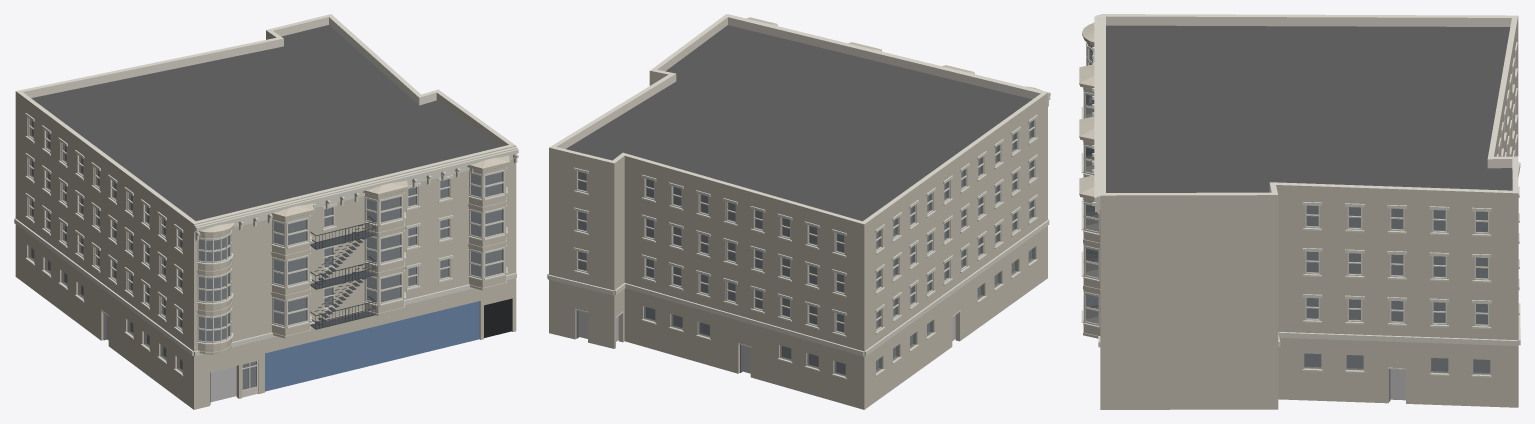
Rendered from exterior.glb.
3 renders of one model, left to right at view 1: azimuth 30°, elevation 25°; view 2: azimuth 150°, elevation 25°; view 3: azimuth 270°, elevation 25°, orthographic. The views are drawn at different scales.
Parts seen in each view (by area): view 1: shell, roof, bay-glazing-hyb, shadow-proxy, storefront, trim, bay-windows-hyb, glazing, frames, fire-escape, front-dressing-r4; view 2: shell, roof, trim, glazing, shadow-proxy, frames; view 3: shell, roof, trim, glazing, shadow-proxy, bay-windows-hyb, bay-glazing-hyb, frames.
Part boxes in pixels (box(x1,y1,x2,y2)): shell: box(15, 14, 516, 409); roof: box(31, 25, 500, 220); bay-glazing-hyb: box(197, 167, 507, 344); shadow-proxy: box(31, 121, 501, 402); storefront: box(100, 298, 511, 404); trim: box(14, 113, 518, 376); bay-windows-hyb: box(197, 155, 509, 354); glazing: box(28, 119, 448, 389); frames: box(28, 118, 450, 330); fire-escape: box(310, 216, 375, 329); front-dressing-r4: box(195, 154, 518, 241); shell: box(549, 14, 1047, 409); roof: box(566, 25, 1032, 221); trim: box(547, 14, 1050, 379); glazing: box(578, 120, 1034, 376); shadow-proxy: box(579, 122, 1031, 374); frames: box(576, 119, 1035, 334); shell: box(1100, 14, 1518, 409); roof: box(1106, 25, 1512, 192); trim: box(1094, 15, 1520, 377); glazing: box(1304, 205, 1490, 374); shadow-proxy: box(1305, 206, 1489, 400); bay-windows-hyb: box(1079, 23, 1100, 338); bay-glazing-hyb: box(1081, 42, 1099, 327); frames: box(1305, 53, 1515, 326).
Bounding box in the file's own units: 25.04 × 13.73 × 25.6.
